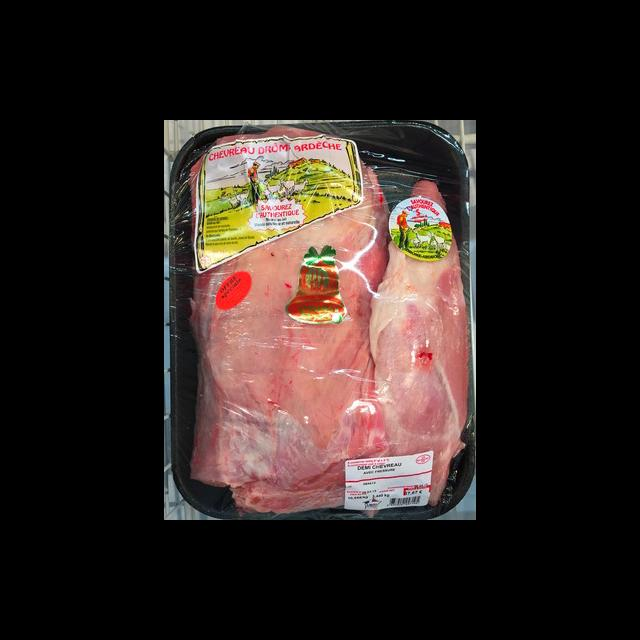beef: (202, 180, 465, 511)
